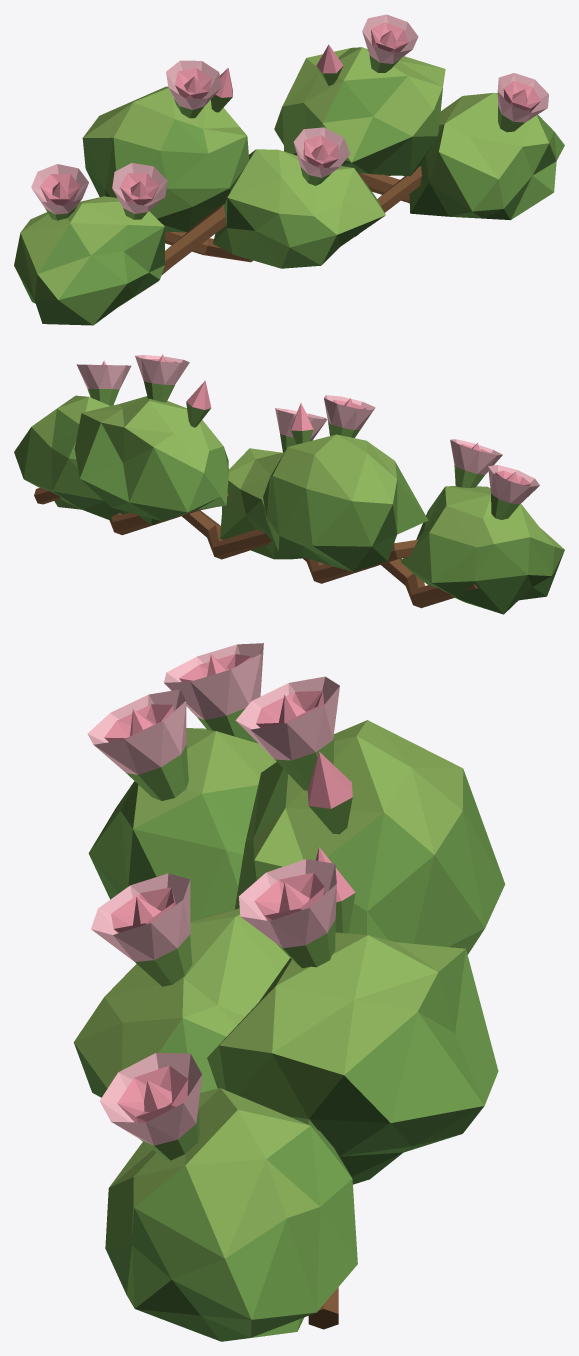
File: FMS_Garden_Rose_Climbing_Top_Pink.fbx
3 views of the same model, one above another, from view 1: azimuth 30°, elevation 25°; view 2: azimuth 150°, elevation 25°; view 3: azimuth 270°, elevation 25° (orthographic). The views are drawn at different scales.
Parts seen in each view (by area): view 1: FMS_Garden_Rose_Climbing_Top_Pink_Body; view 2: FMS_Garden_Rose_Climbing_Top_Pink_Body; view 3: FMS_Garden_Rose_Climbing_Top_Pink_Body.
Boxes of the visible parts, left/top/right/bottom form: FMS_Garden_Rose_Climbing_Top_Pink_Body: left=14, top=14, right=564, bottom=325; FMS_Garden_Rose_Climbing_Top_Pink_Body: left=14, top=354, right=564, bottom=614; FMS_Garden_Rose_Climbing_Top_Pink_Body: left=73, top=643, right=505, bottom=1341.
Size of the model in its own units: 1.57 by 0.539 by 0.5627.
